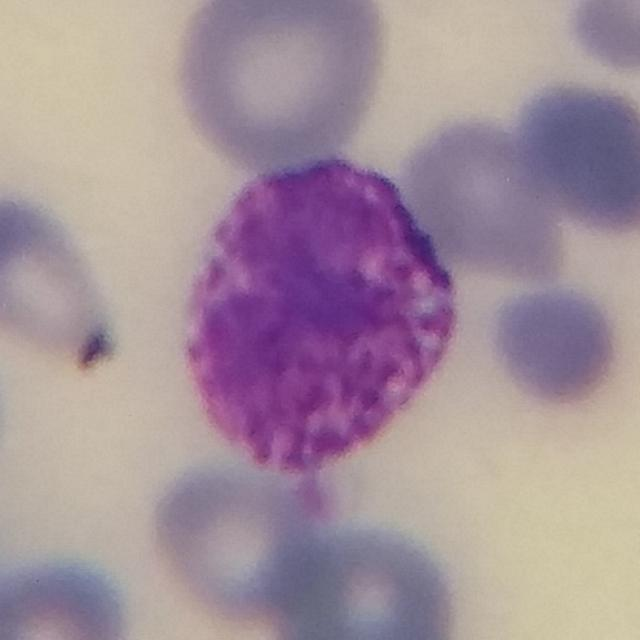baso: (179, 143, 466, 484)
